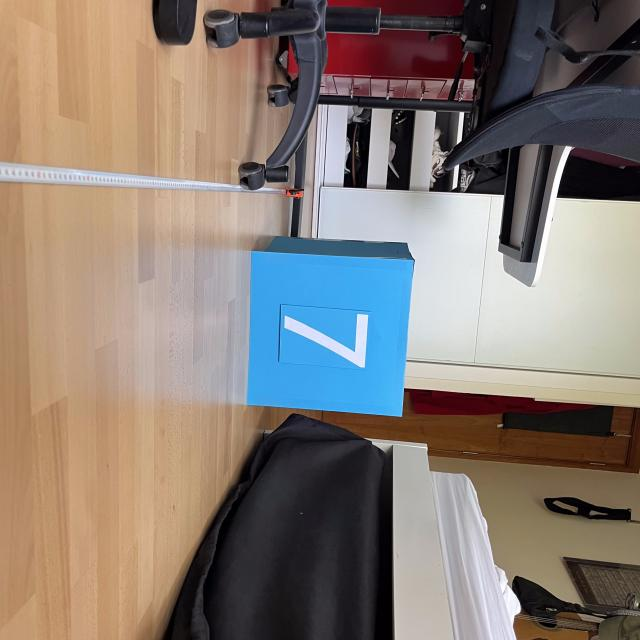box: (243, 232, 417, 418)
